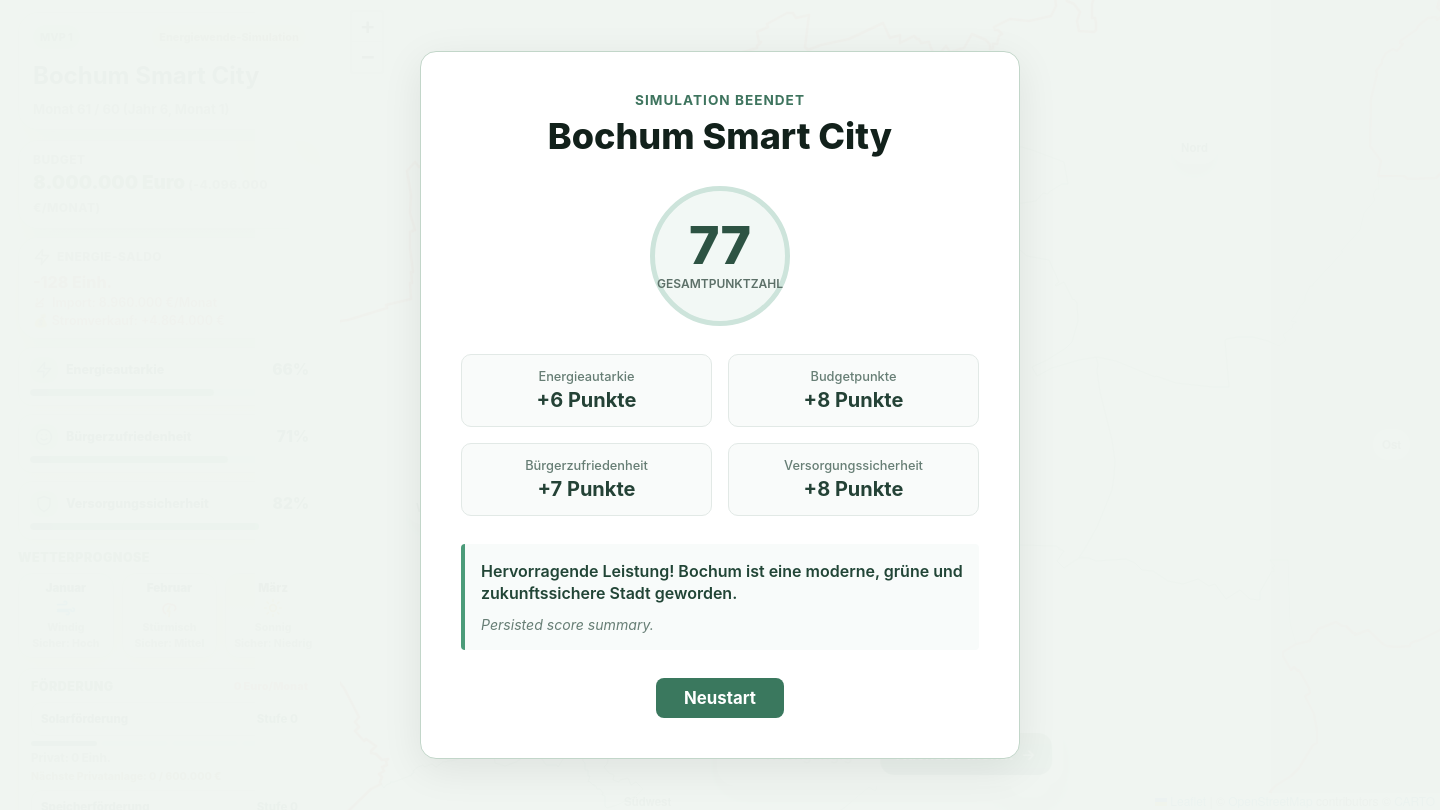
Test case: App integrated game flow › renders the real endscreen from finalScore and restarts by clearing persisted state
expect the text "77" is shown: met, box [689, 220, 751, 272]
expect the text "Budgetpunkte" is shown: met, box [810, 369, 896, 384]
Step 1. Click the button "Neustart" → (720, 698), box [656, 678, 784, 718]
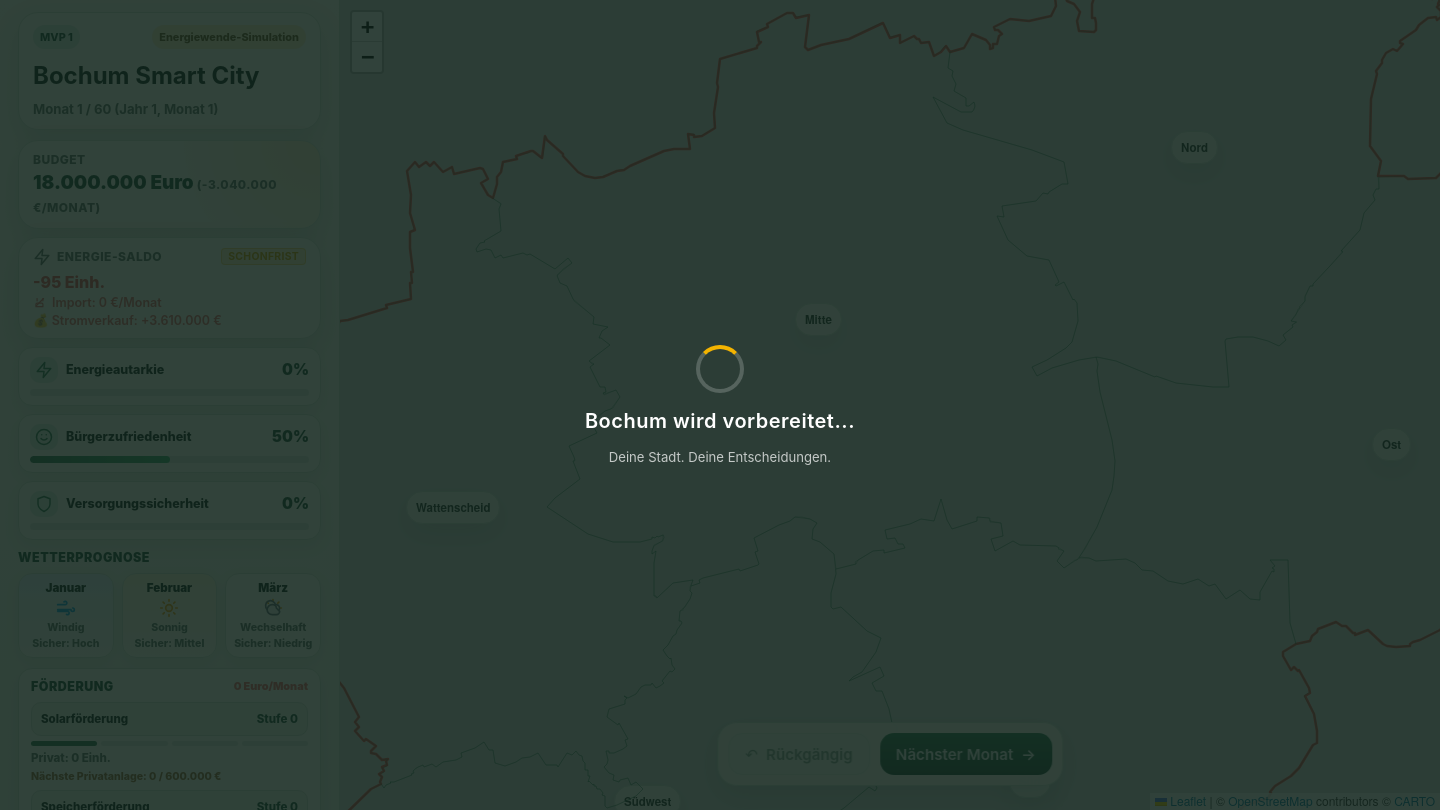
expect the element with test id "endscreen-overlay" is gone: met
expect the element with test id "budget-value" shows "18.000.000 Euro": met, box [33, 171, 194, 194]
expect the element with test id "quick-start-loading" is shown: met
